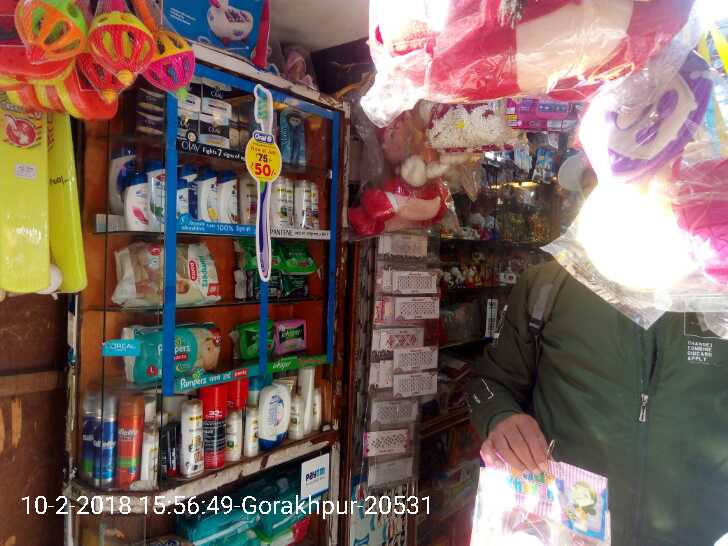gillete: (120, 390, 147, 489), (96, 395, 119, 485), (204, 385, 227, 467), (83, 397, 95, 480)
venus: (283, 112, 307, 162)
